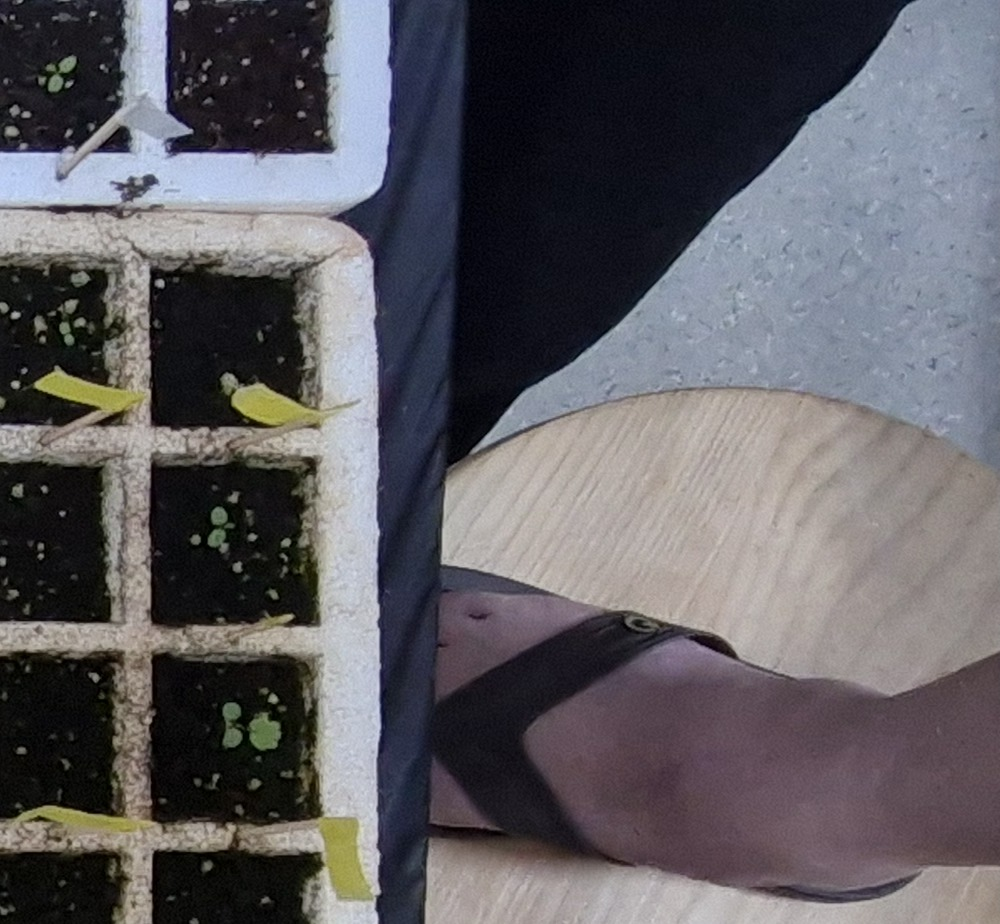Folha: (252, 713, 276, 745), (208, 528, 225, 547), (211, 507, 227, 526), (227, 729, 243, 747), (223, 703, 240, 719), (64, 334, 73, 346), (60, 322, 69, 333)
Germinacao: (222, 702, 281, 748), (208, 507, 228, 548), (59, 323, 75, 344)
